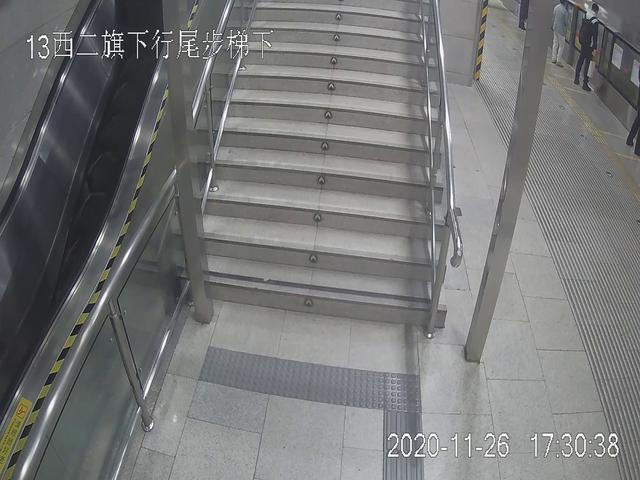person: (575, 1, 600, 90), (549, 1, 575, 65)
